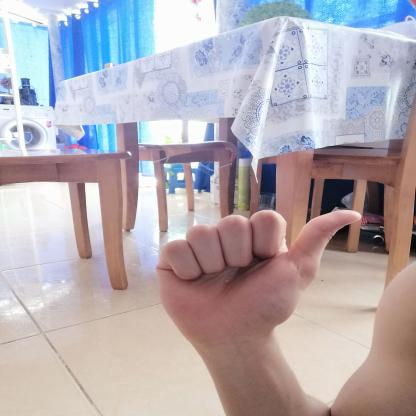DAD: (142, 196, 375, 354)
